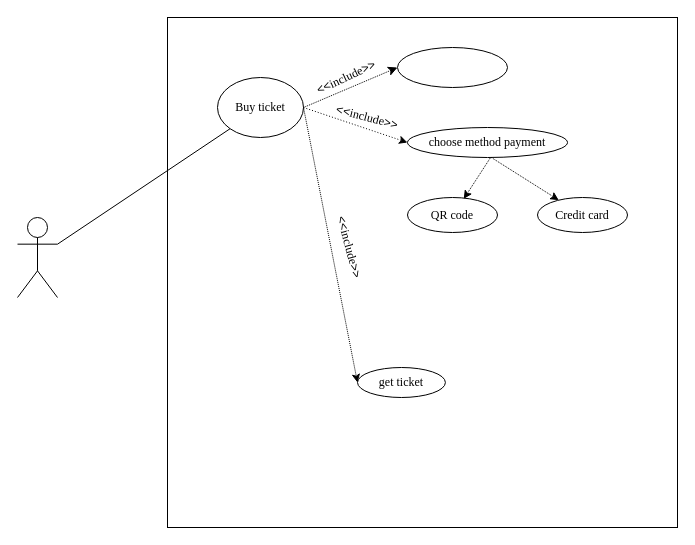
Some shapes in this 695 by 545 pixel diagram are drawn without their labels. The shapes that lost their labels are listed below. From the top down, each one's centre as x and y in pixels, then its label:
[452,67]: choose destination
[37,257]: Actor
